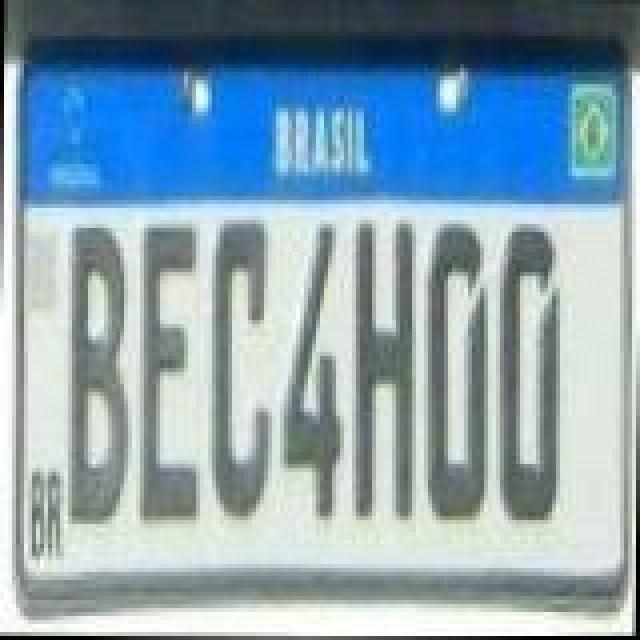4: (278, 226, 346, 522)
B: (64, 224, 132, 528)
C: (206, 216, 274, 520)
D: (420, 220, 492, 524), (492, 224, 560, 528)
E: (134, 224, 202, 524)
H: (350, 224, 418, 528)
